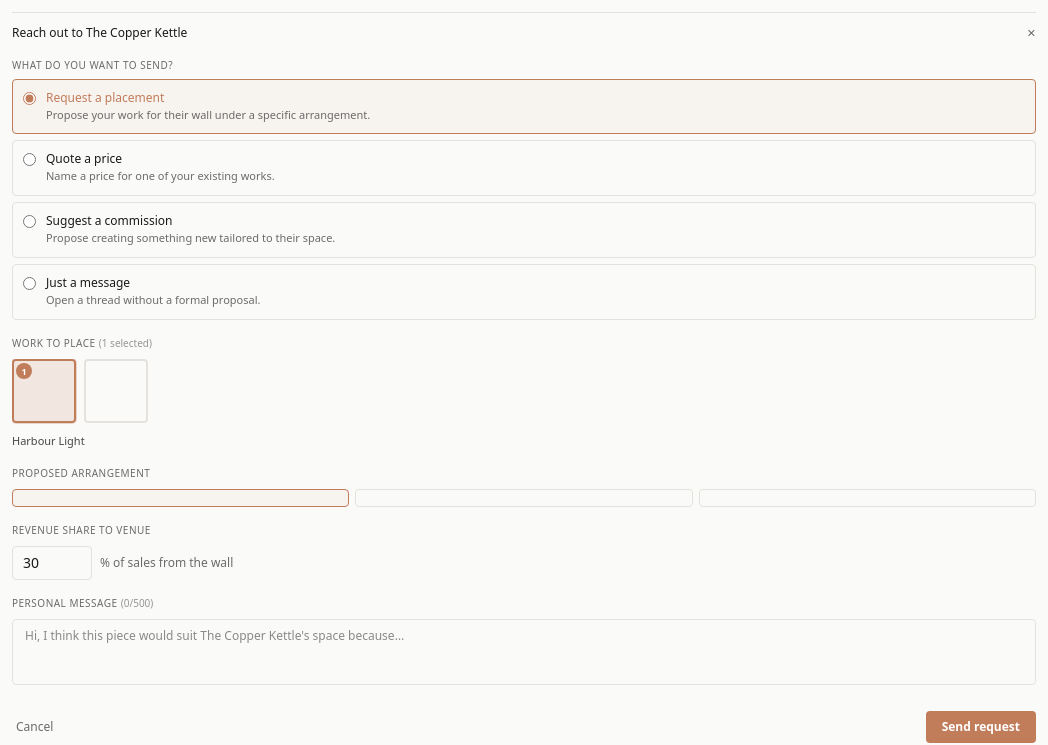
Test: SpacesPlacementRequestForm mixed-terms note › shows the note when the selected works disagree and their terms are on screen
Click the button titled "Add Second Tide": (116, 391) [84, 359, 148, 423]
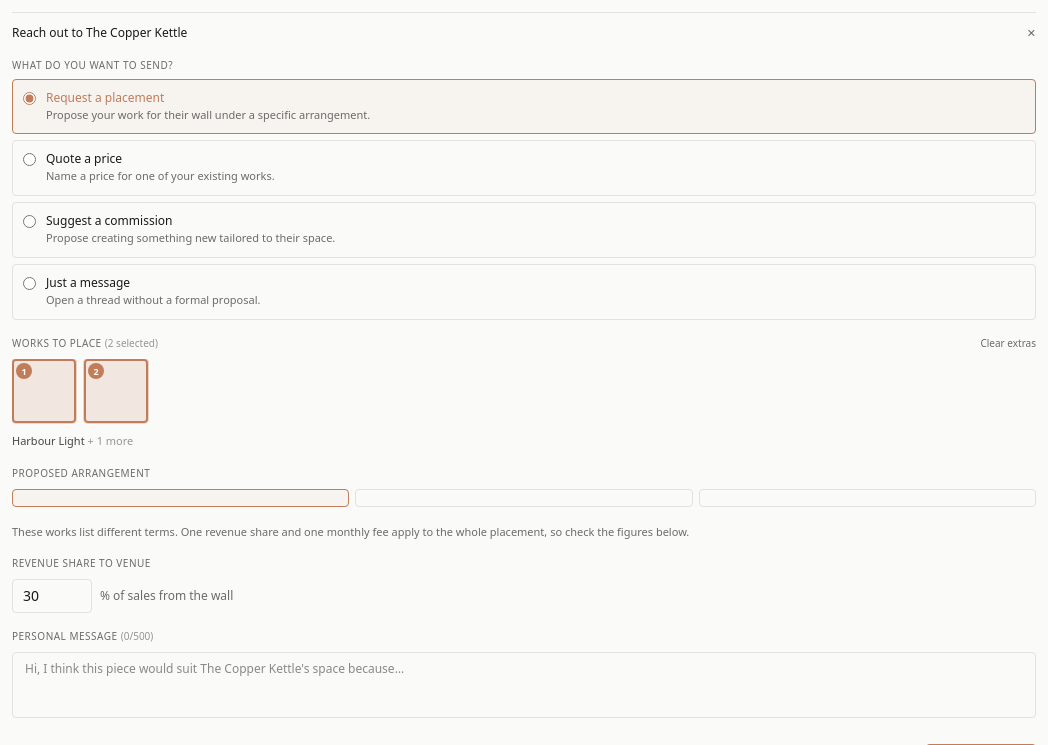
Now the text "These works list different terms. One revenue share and one monthly fee apply to the whole placement, so check the figur" is shown, box [12, 524, 689, 538]
